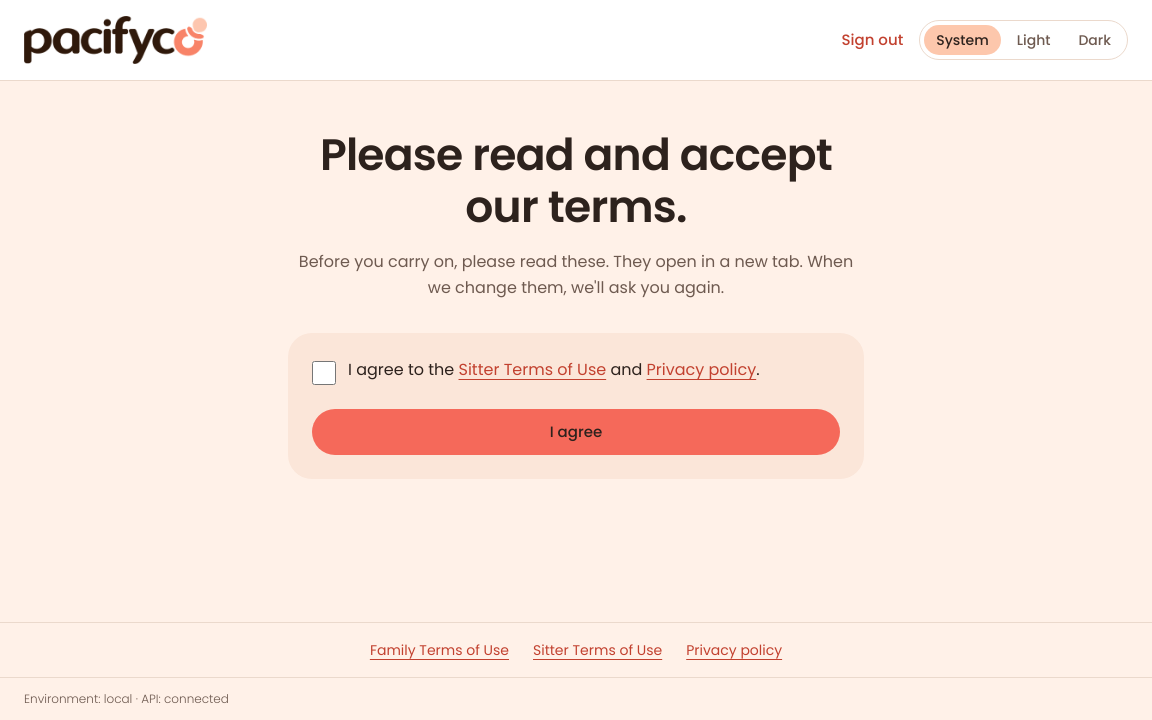
Scenario: terms at sign-up and after changes › an existing sitter who hasn't accepted sees the terms right after signing in
Expected: the heading "Please read and accept our terms." is shown, [288,129,864,233]
Expected: the text "Your work with Pacify." is not shown
Click the button "I agree": [576, 432] box [312,409,840,455]
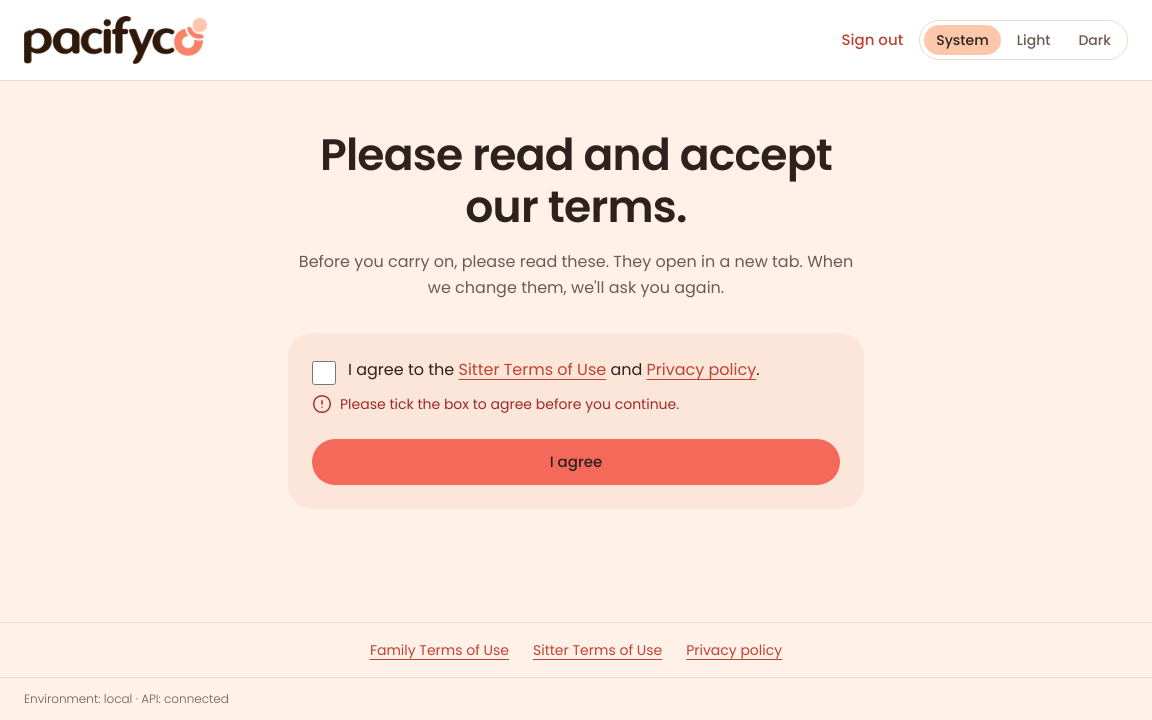
Expected: the text "Please tick the box to agree before you continue." is shown, [340,393,679,415]
Click the checkbox labelled "I agree to the Sitter Terms of Use and Privacy policy .": [324, 373] box [312,361,336,385]
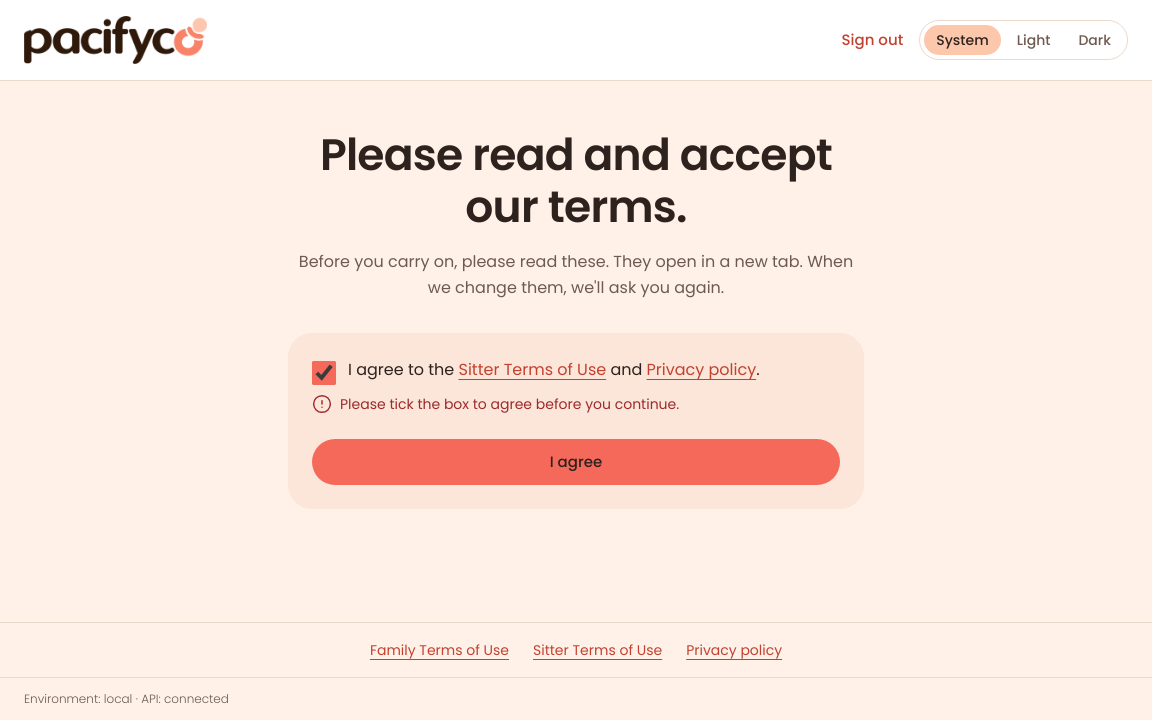
Click the button "I agree": [576, 462] box [312,439,840,485]
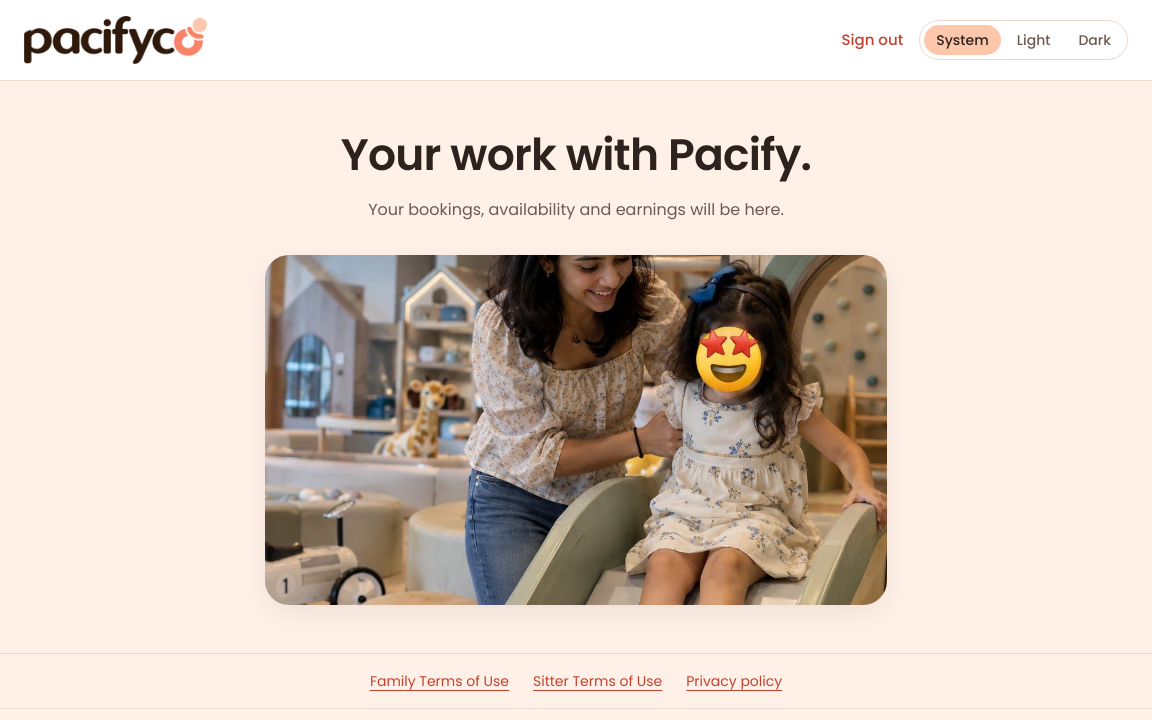
Expected: the heading "Your work with Pacify." is shown, [341,124,811,185]
